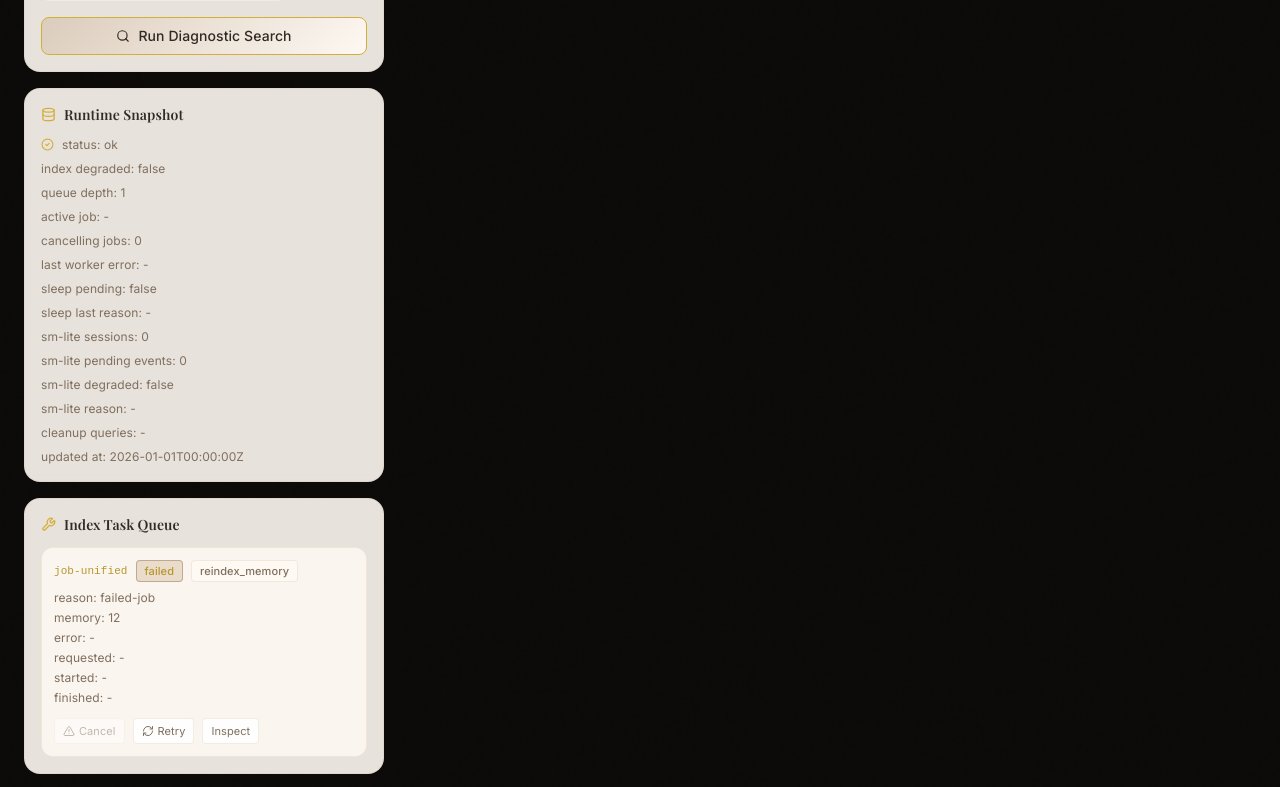
Test case: ObservabilityPage › uses unified retry endpoint when retry API is available
(page scrolled)
Expected: the text "job-unified" is shown, [54,564,128,576]
Click the button "Retry".
click(164, 730)  # box [133,718,194,744]
(page scrolled)
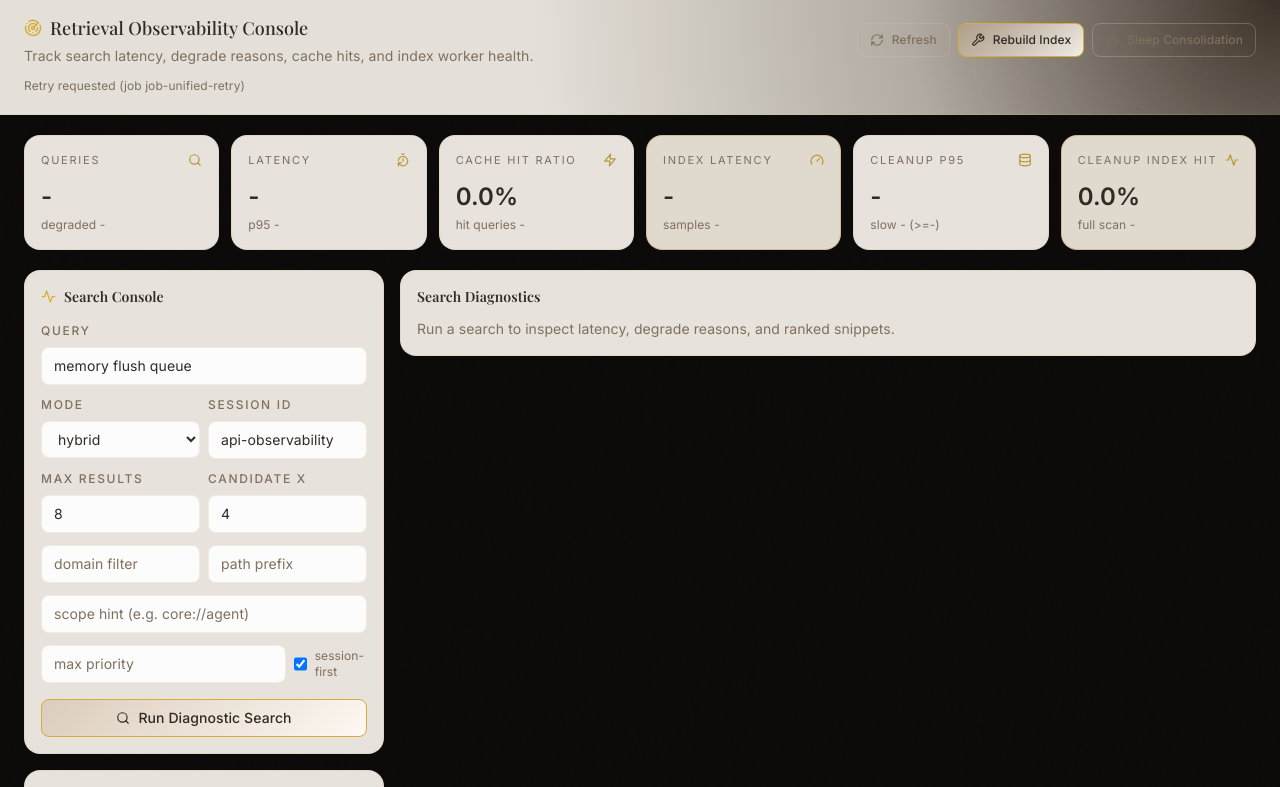
Expected: the text "Retry requested (job job-unified-retry)" is shown, [24,78,245,93]
